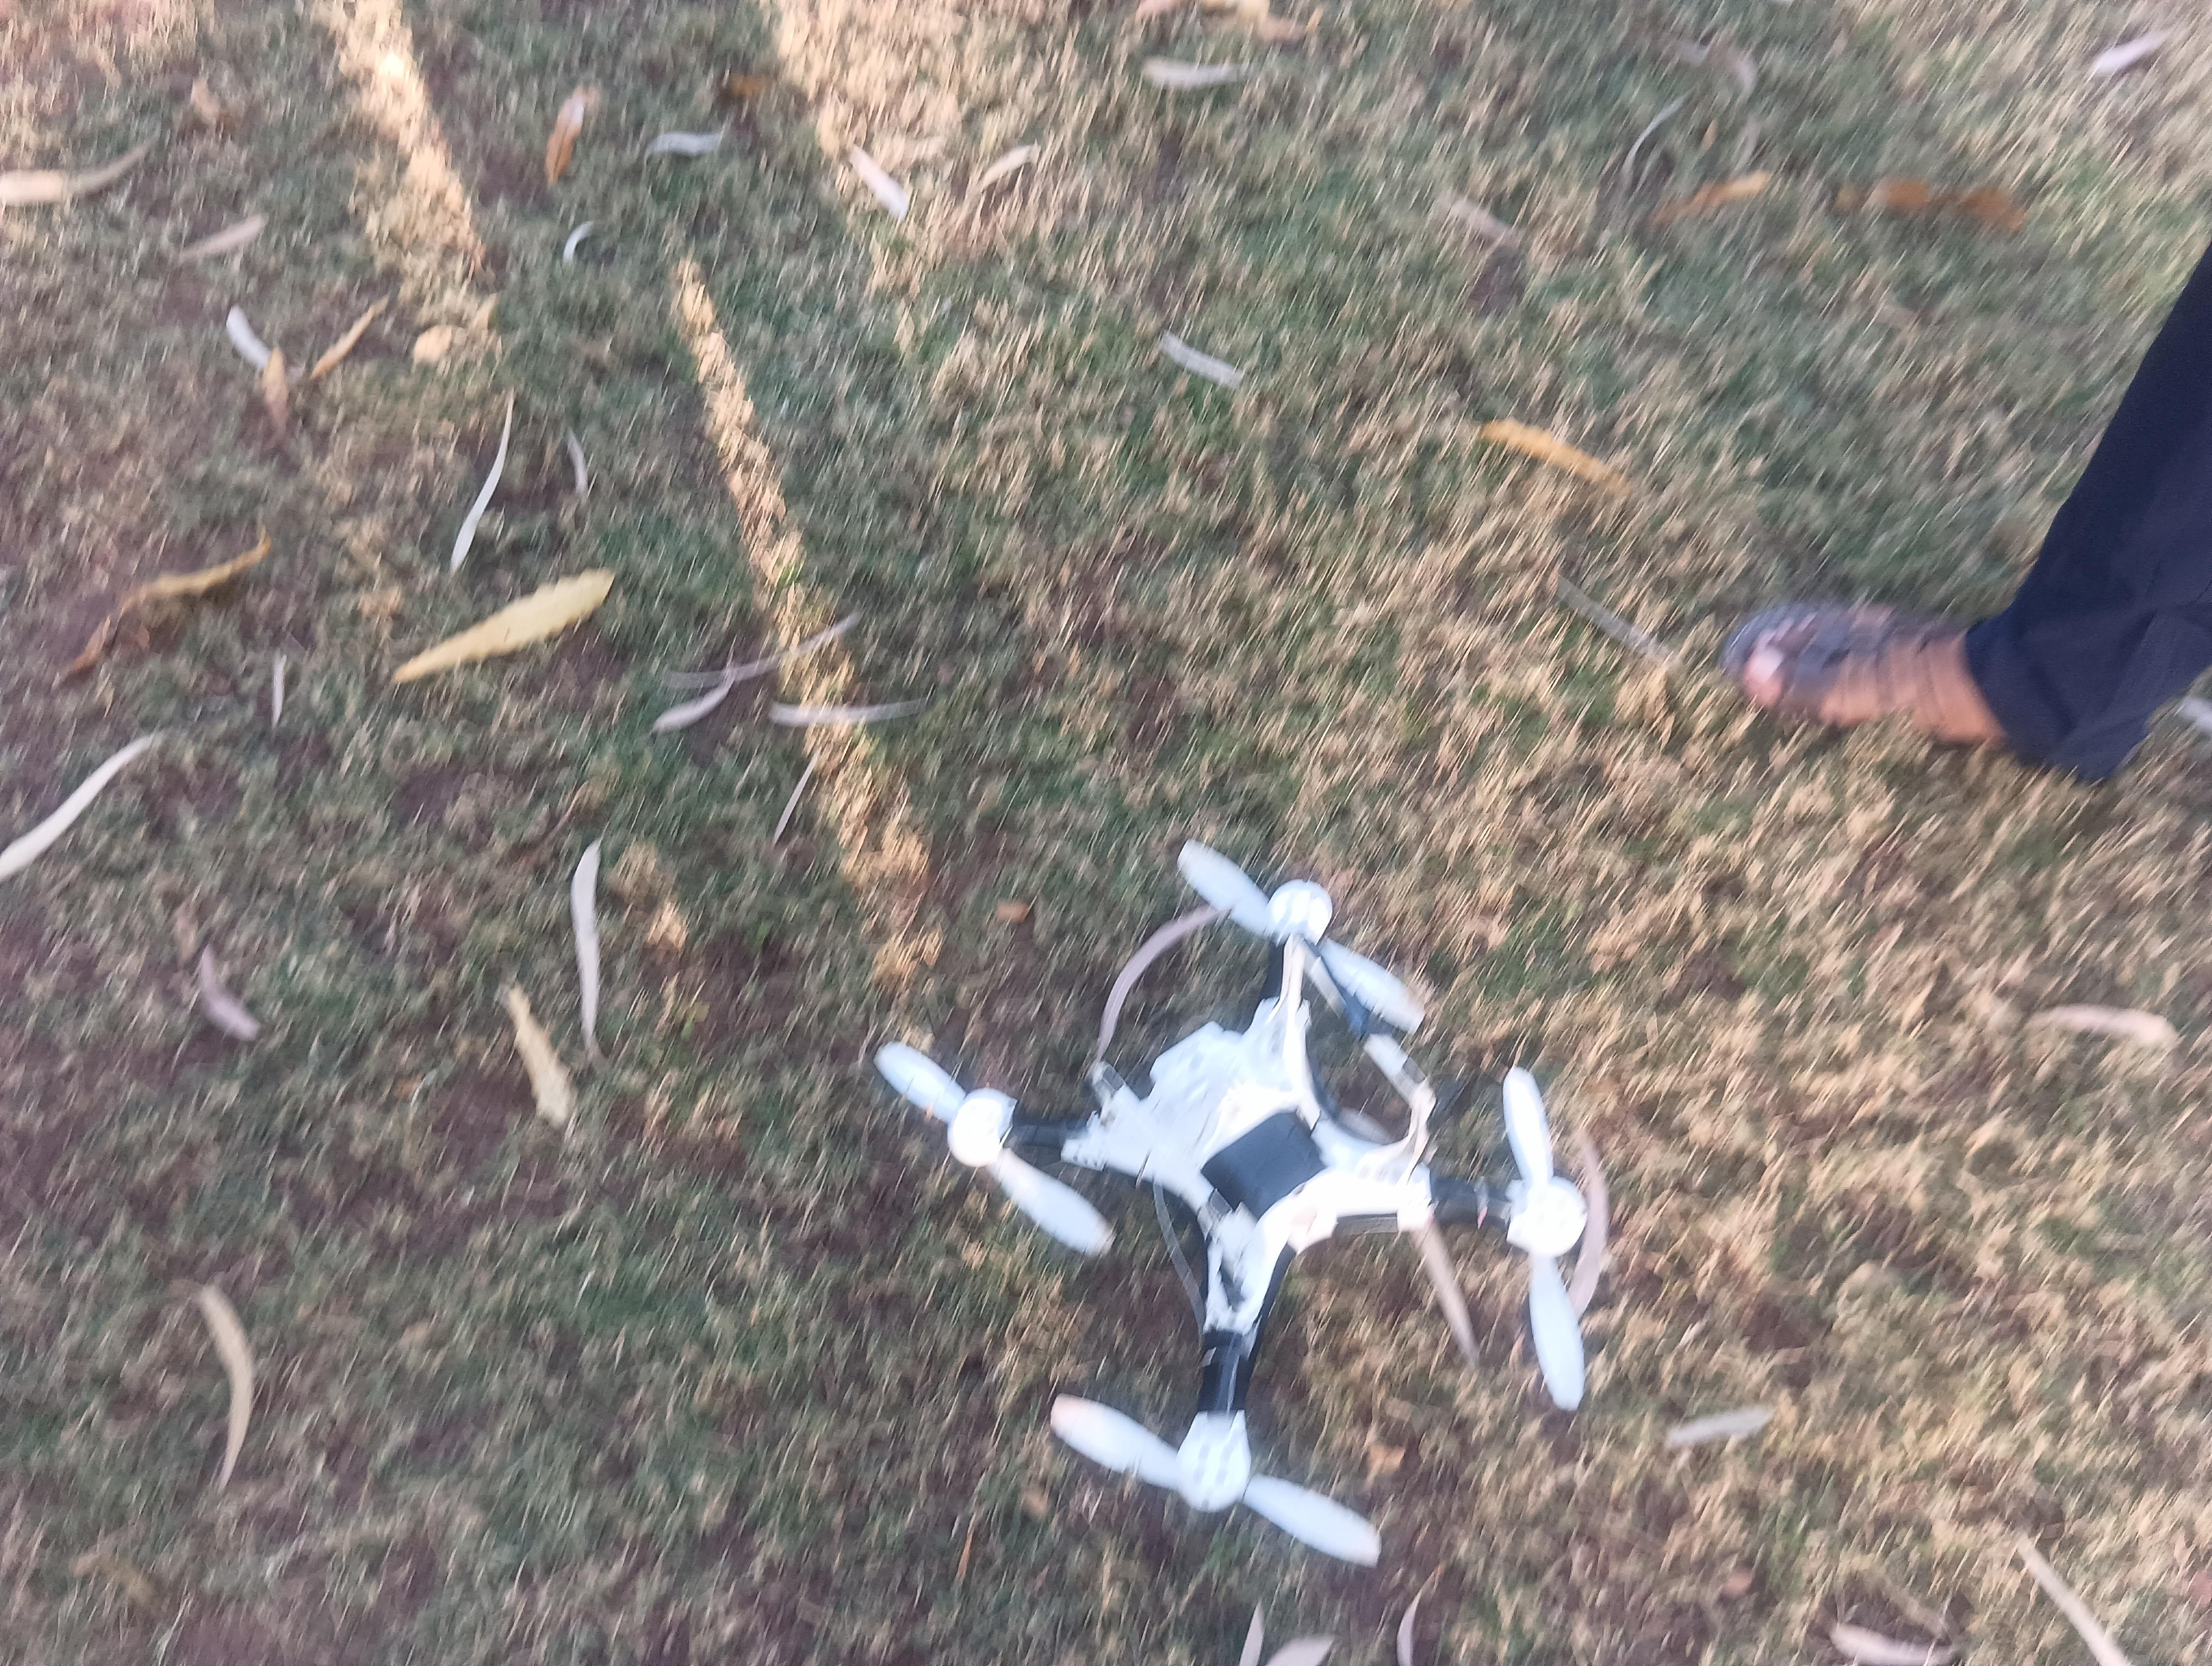drone: (925, 868, 1656, 1572)
